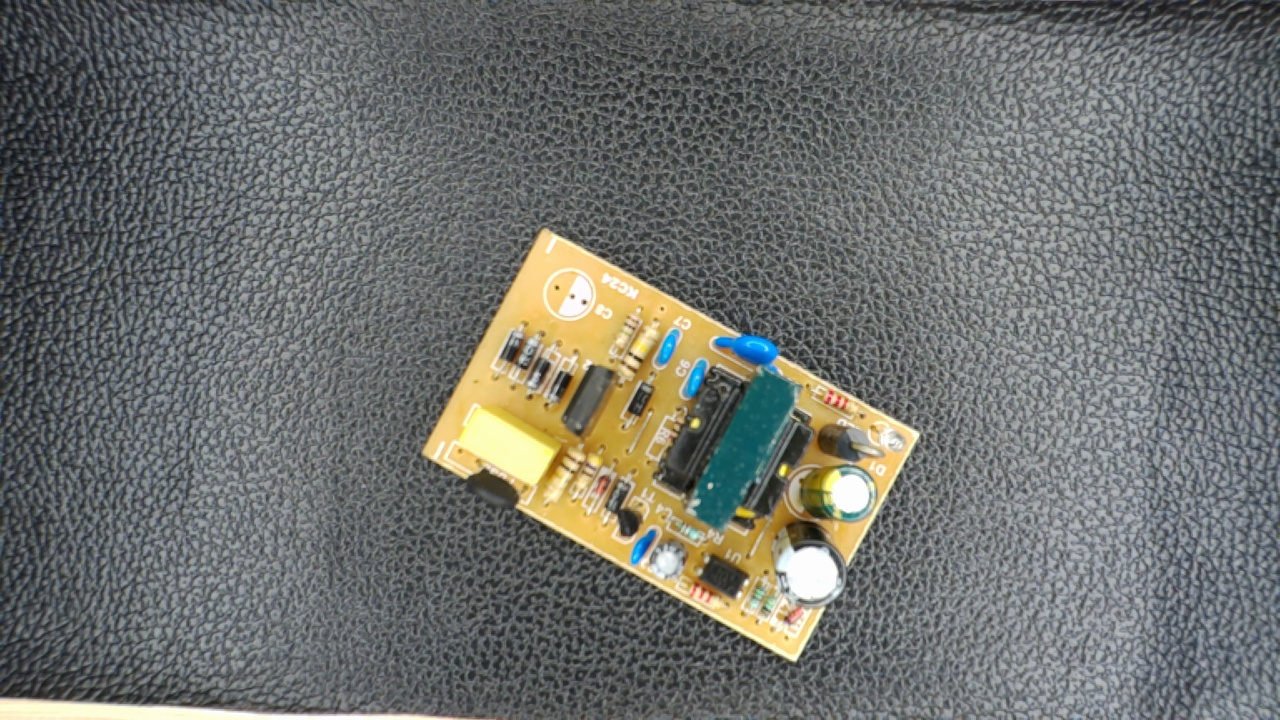fuse: (455, 456, 536, 515)
mov: (704, 327, 788, 371)
optocoupler: (690, 548, 753, 600)
